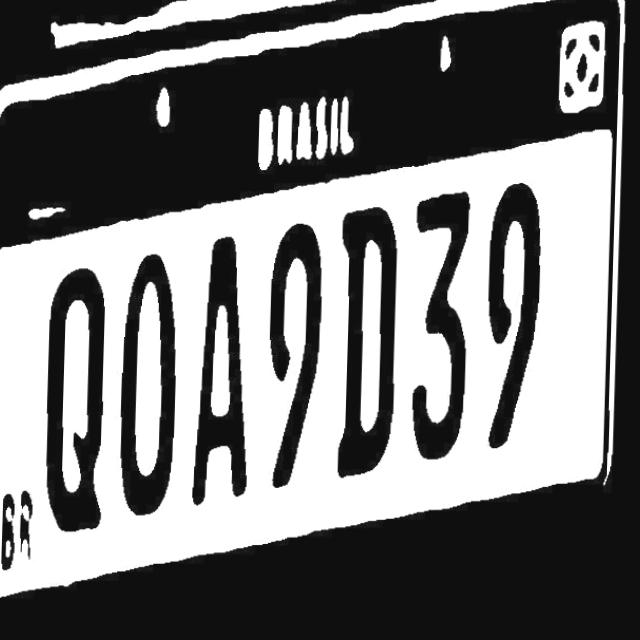3: (410, 189, 474, 462)
9: (479, 180, 548, 450), (266, 220, 331, 489)
a: (192, 230, 258, 508)
d: (335, 205, 407, 479)
o: (117, 251, 186, 518)
q: (41, 266, 114, 531)
